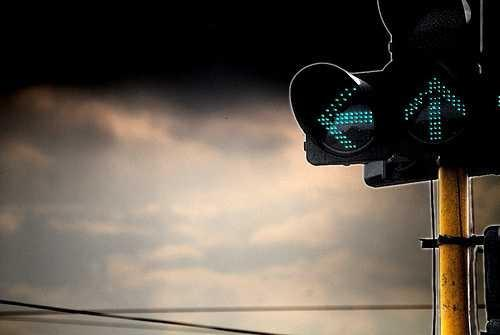green: (378, 58, 482, 158), (285, 56, 383, 160)
